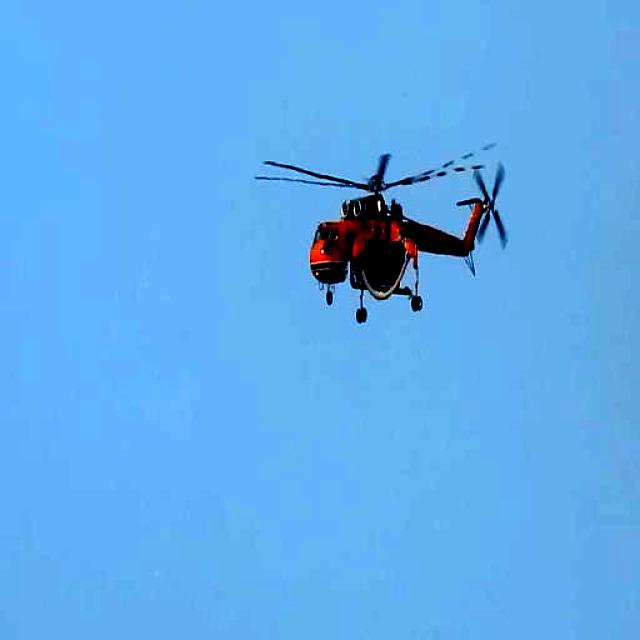drone: (258, 108, 529, 342)
